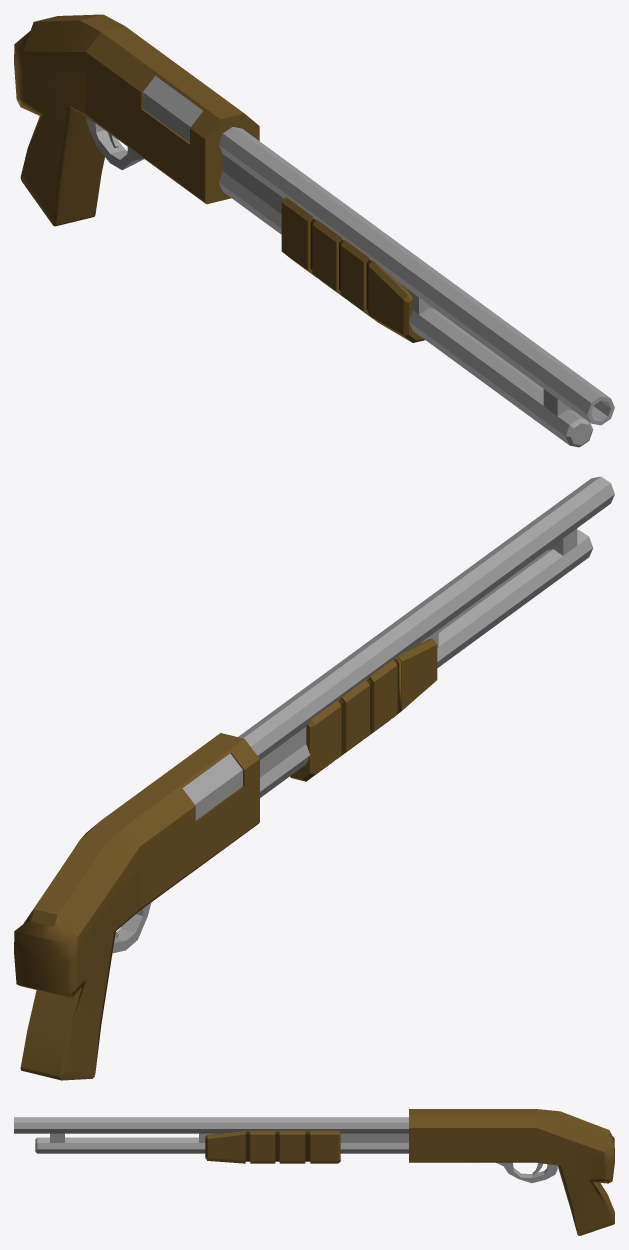
Rendered from Shotgun.fbx.
The picture shows the model from 3 angles, top to bottom: view 1: azimuth 30°, elevation 25°; view 2: azimuth 150°, elevation 25°; view 3: azimuth 270°, elevation 25°; orthographic projection. The views are drawn at different scales.
Visible parts, largest first — view 1: MS_Shotgun_Trigger, MS_Shotgun_Pump; view 2: MS_Shotgun_Trigger, MS_Shotgun_Pump; view 3: MS_Shotgun_Trigger, MS_Shotgun_Pump.
Boxes of the visible parts, box(x1,y1,x2,y2) form: MS_Shotgun_Trigger: box(14, 14, 614, 447); MS_Shotgun_Pump: box(143, 76, 424, 342); MS_Shotgun_Trigger: box(14, 476, 614, 1080); MS_Shotgun_Pump: box(182, 638, 437, 820); MS_Shotgun_Trigger: box(14, 1109, 614, 1235); MS_Shotgun_Pump: box(205, 1131, 340, 1163).
Size of the model in its own units: 4.49 by 17.45 by 80.17.
